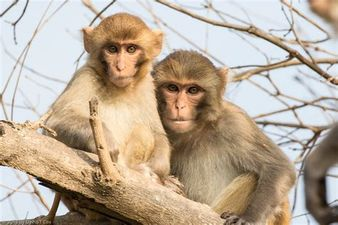monkey: (25, 8, 184, 215), (136, 39, 312, 211)
